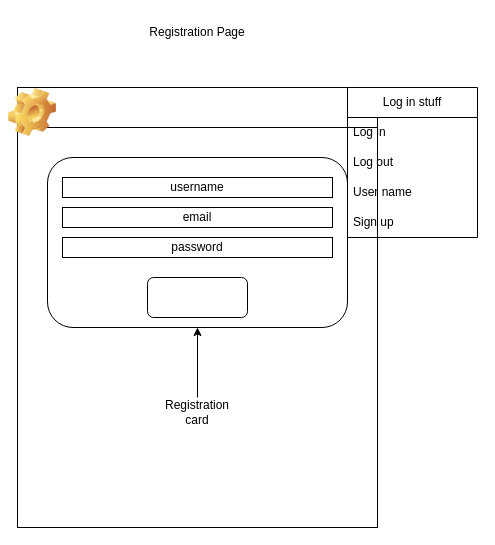
Some shapes in this 495 by 545 pixel diagram are drawn without their labels. The shapes that lost their labels are listed below. From the top down, each one's centre as x and y in pixels, then its label:
(197,107): Icon
(197,297): enter
